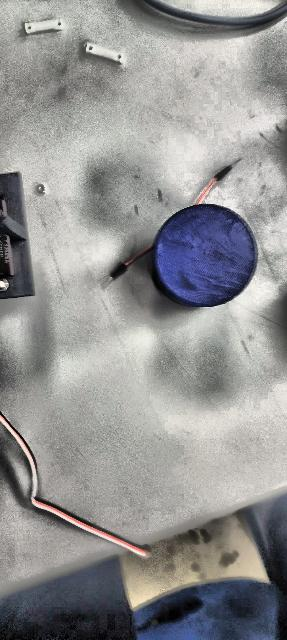blue: (153, 202, 259, 308)
